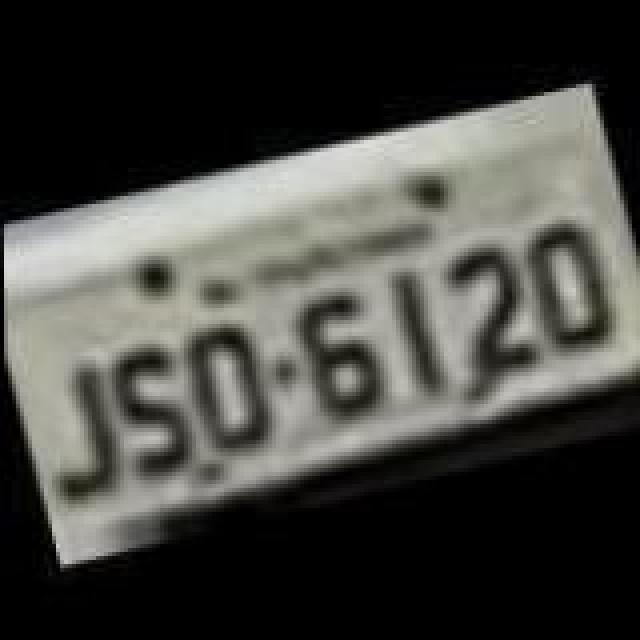1: (376, 260, 456, 396)
2: (432, 232, 552, 384)
6: (284, 284, 396, 432)
J: (22, 352, 138, 512)
O: (170, 310, 274, 458), (518, 214, 626, 354)
S: (98, 338, 202, 486)
